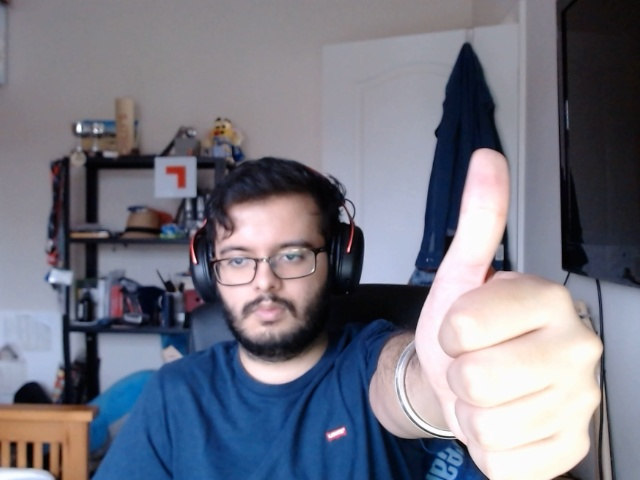Thumbs up: (410, 138, 623, 480)
